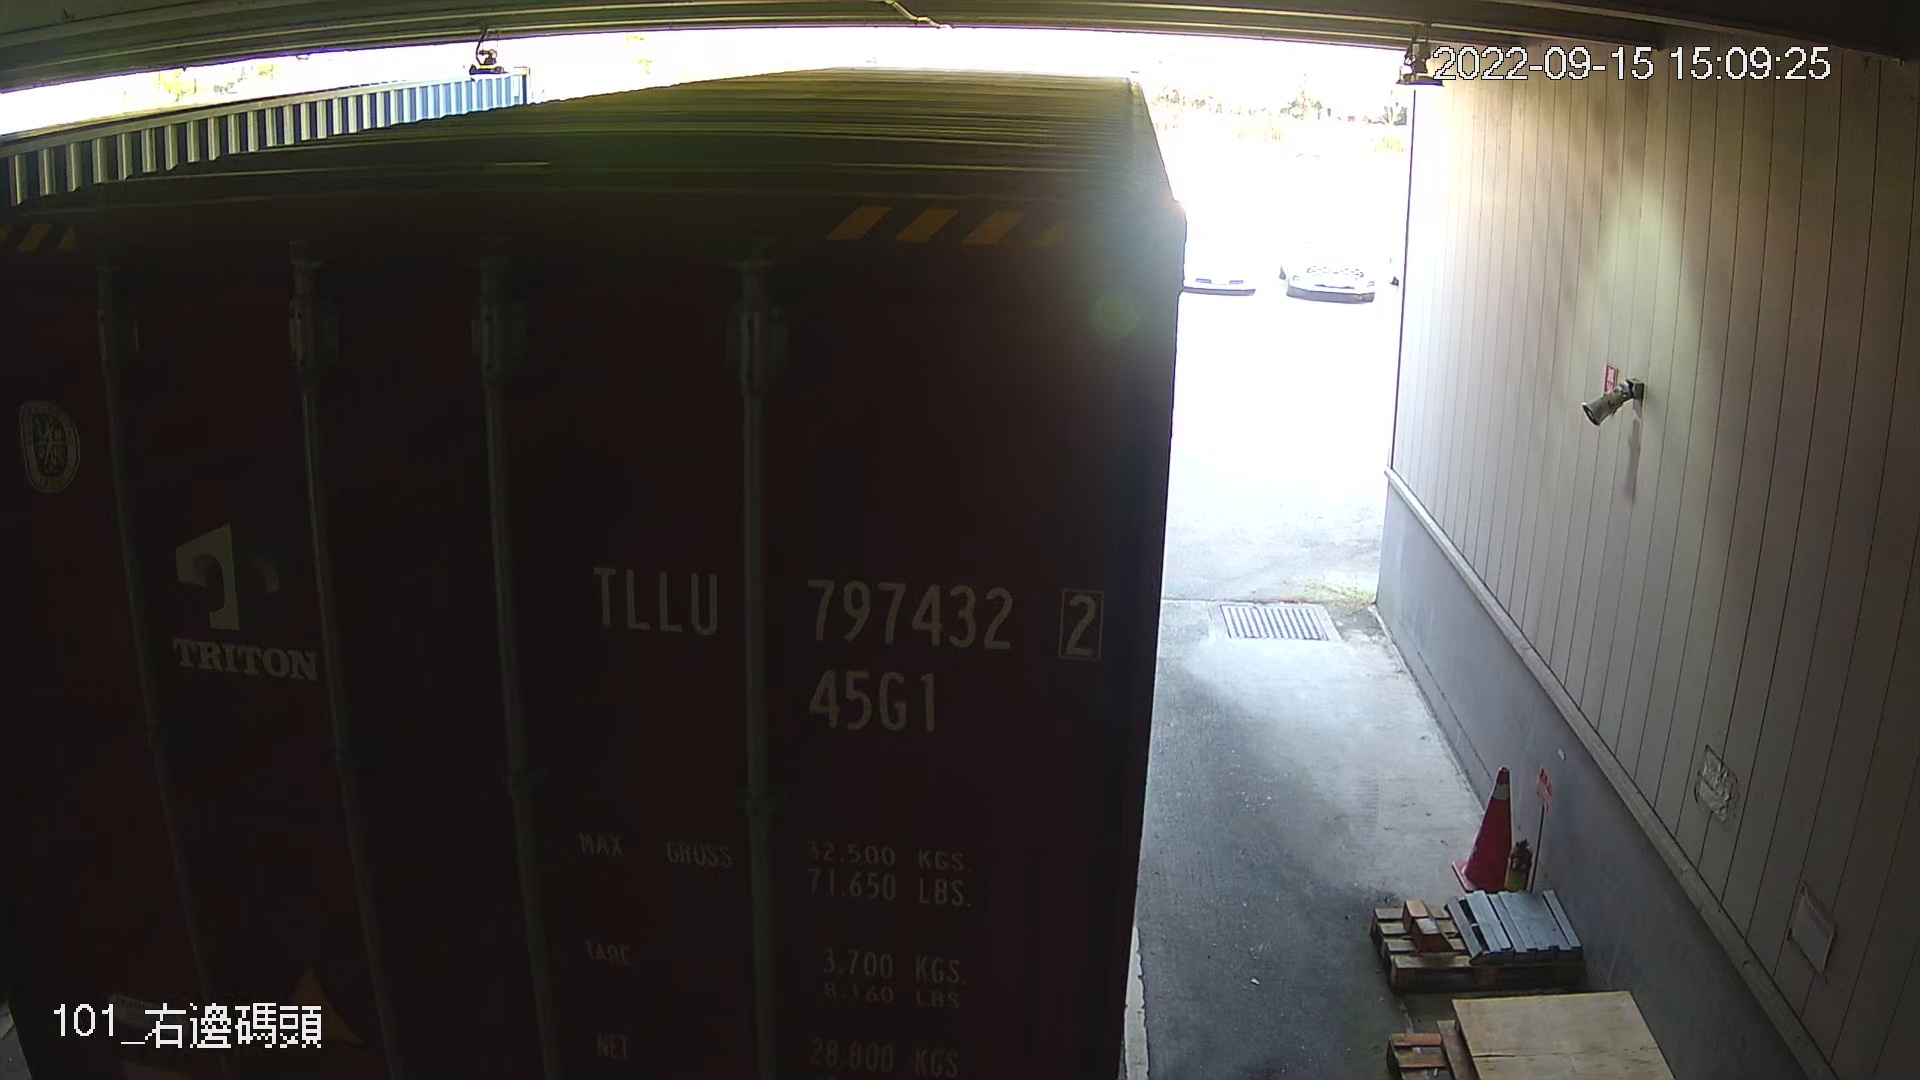container: (578, 535, 1120, 744)
